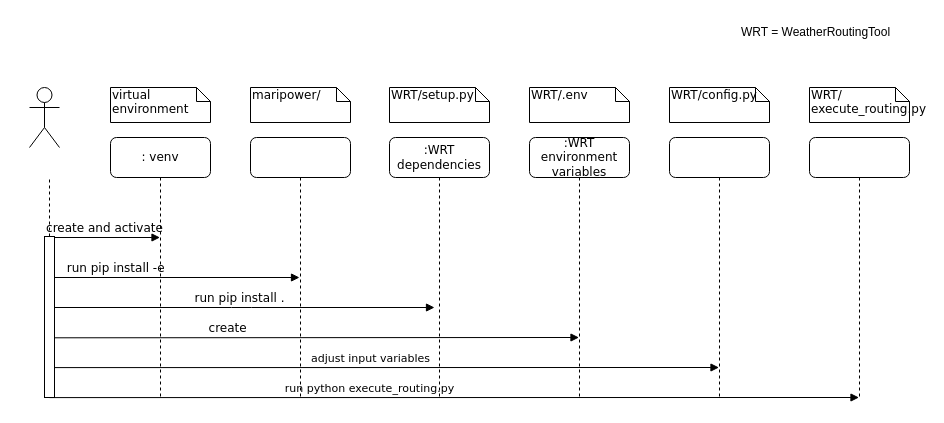
This 944x423 diagram has some shape labels left out. Each missing label, with the box of its shape:
:mariPower: (250, 136, 350, 398)
:WRT: (808, 136, 910, 398)
:WRT Input parameters: (668, 136, 770, 398)
Developer: (28, 86, 60, 148)
